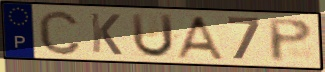7: (225, 15, 264, 62)
A: (173, 14, 226, 62)
C: (36, 8, 83, 57)
K: (88, 11, 124, 57)
P: (266, 17, 315, 64)
U: (129, 12, 176, 60)
